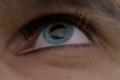eye: (44, 23, 75, 43)
